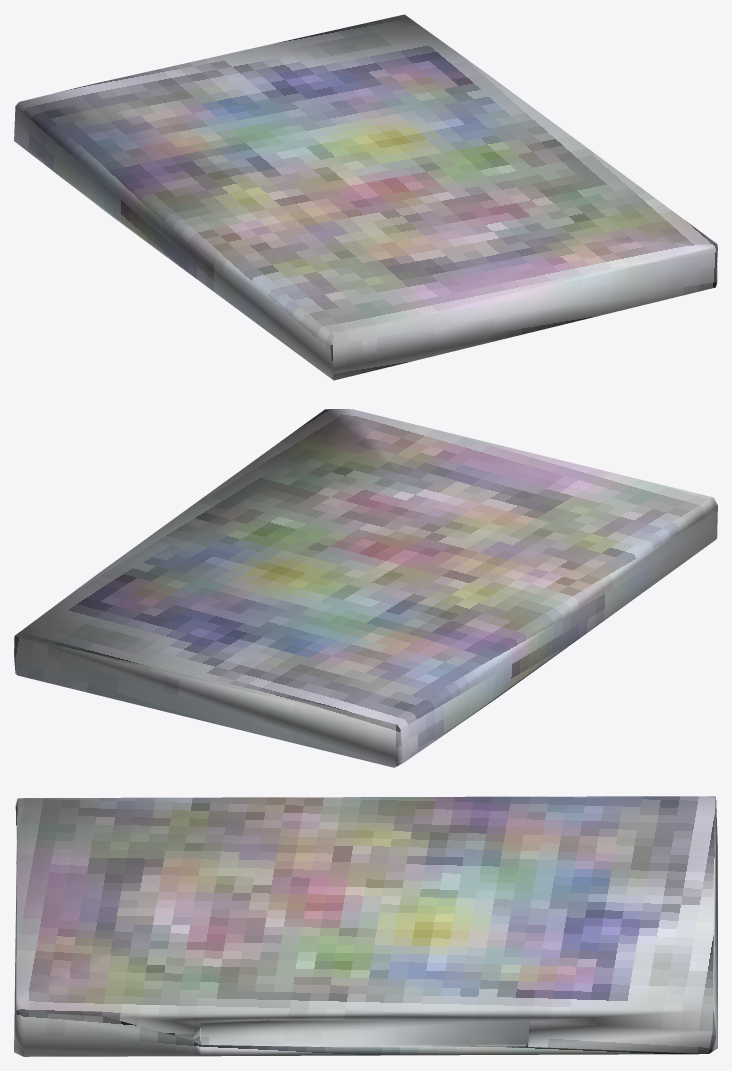
The model's file is Mario_Party_9_Wii_Game-low.glb.
3 views of the same model, one above another, from view 1: azimuth 30°, elevation 25°; view 2: azimuth 150°, elevation 25°; view 3: azimuth 270°, elevation 25° (orthographic). The views are drawn at different scales.
Parts seen in each view (by area): view 1: Mario_Party_9_Wii_Game; view 2: Mario_Party_9_Wii_Game; view 3: Mario_Party_9_Wii_Game.
Boxes of the visible parts, left/top/right/bottom form: Mario_Party_9_Wii_Game: left=14, top=14, right=717, bottom=380; Mario_Party_9_Wii_Game: left=14, top=409, right=717, bottom=767; Mario_Party_9_Wii_Game: left=14, top=796, right=717, bottom=1056.
Size of the model in its own units: 0.1363 by 0.0159 by 0.1903.
Materials: 1 (1 with a texture image).
